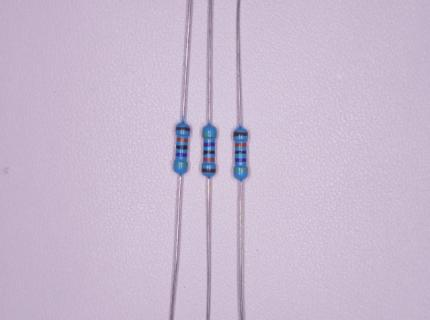Black band: (203, 150, 215, 155), (176, 145, 188, 150), (235, 151, 247, 154)
Brown band: (176, 126, 190, 132), (201, 168, 216, 173), (233, 132, 248, 137)
Orange band: (176, 137, 188, 142), (203, 157, 215, 162), (235, 143, 247, 147)
Violet band: (203, 142, 215, 147), (175, 153, 187, 157), (235, 158, 247, 162)
Yellow band: (202, 133, 217, 137), (173, 162, 188, 166), (233, 168, 248, 172)
